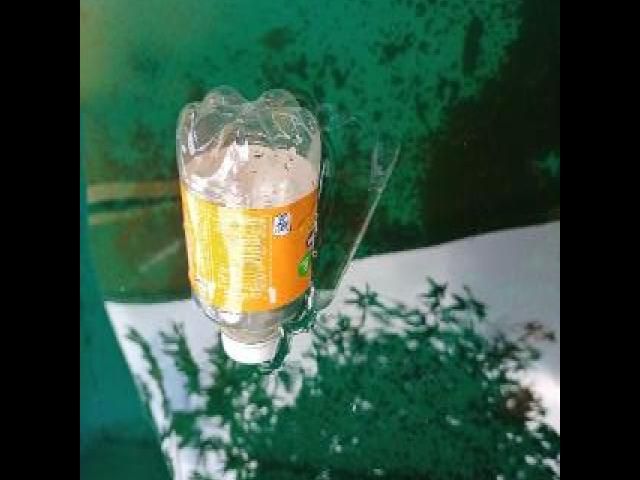Bottle: (169, 72, 329, 378)
